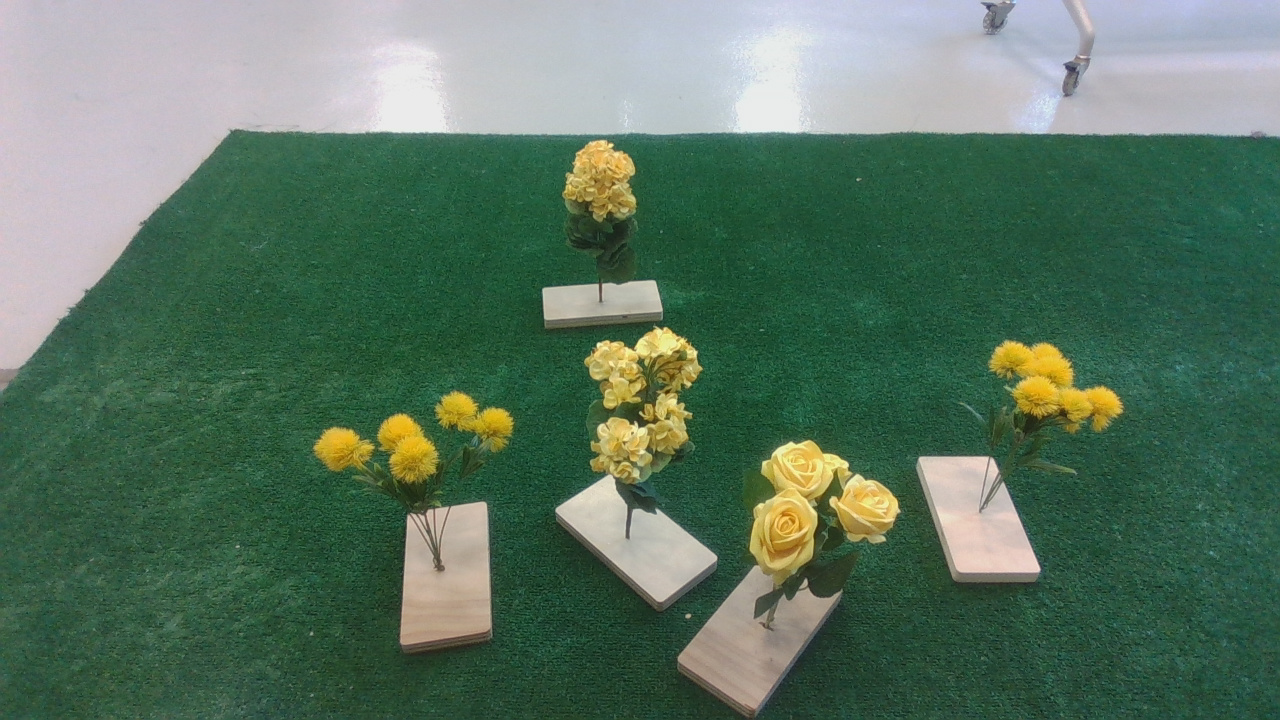dandelion: (305, 389, 531, 514), (939, 327, 1150, 456)
geranium: (584, 333, 718, 505), (550, 141, 673, 282)
rose: (740, 441, 913, 598)
